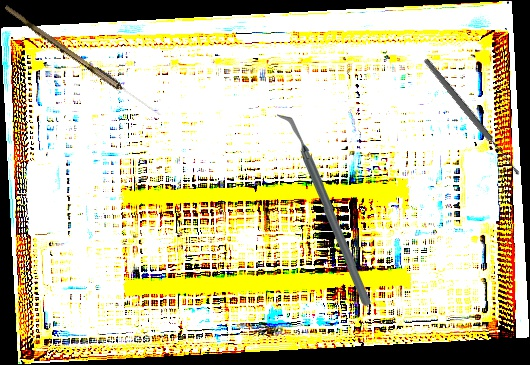Chopper: (273, 110, 375, 307)
Surgical Spoon: (1, 4, 164, 119), (422, 56, 522, 178)
